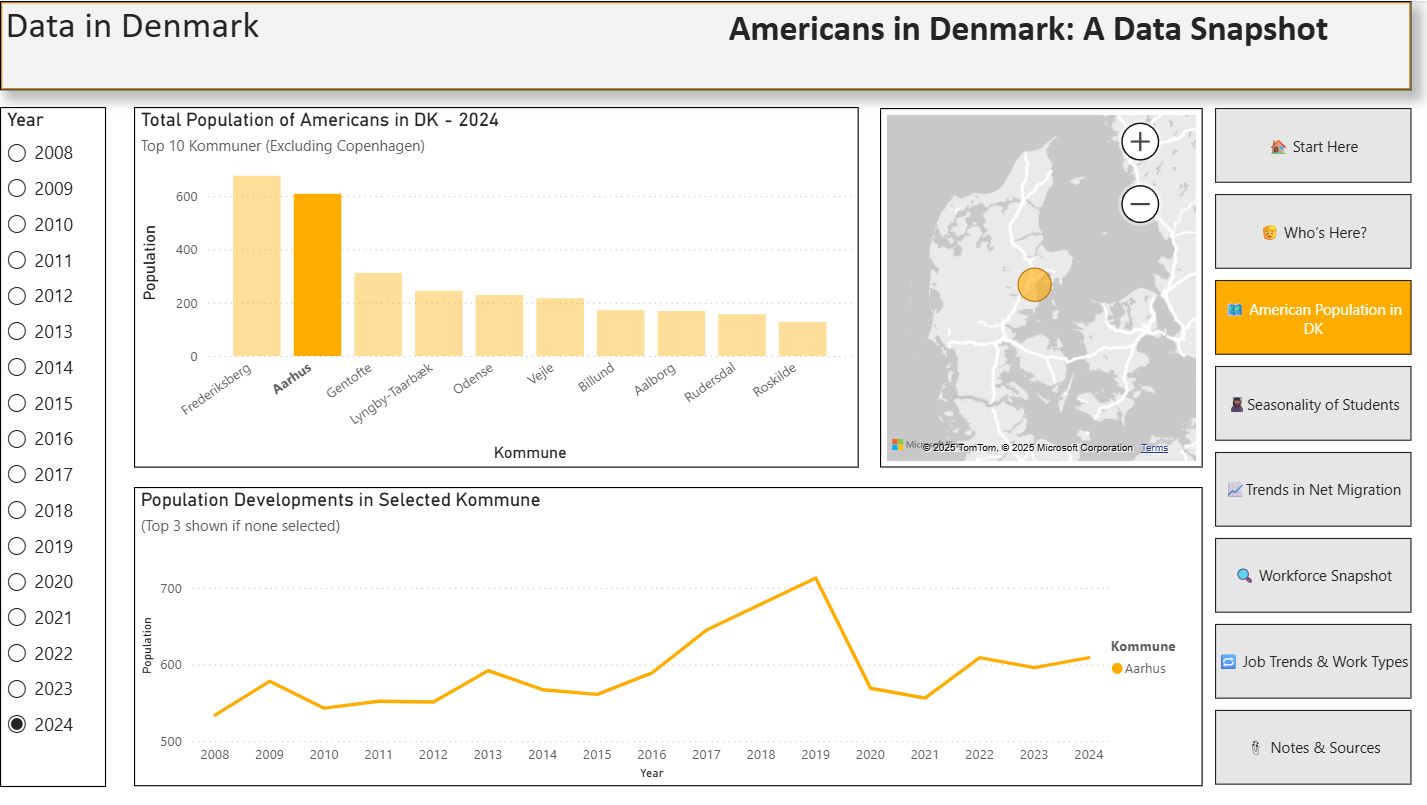

The dashboard page shown, as its layout file describes it:
{"tool":"powerbi","page":{"name":"🗺️ American Population in DK","canvas":[1280,720],"ordinal":2},"visuals":[{"type":"shape","box":[0,0,1264,80],"z":0,"group":"g1"},{"type":"map","fields":{"Category":["Dim_Kommune_Region_Danish.Kommune"],"Size":["Sum(fact_population_locations_yearly.Population)"]},"box":[787.8,95.9,289.2,321.6],"z":0},{"type":"clusteredColumnChart","fields":{"Category":["Dim_Kommune.Kommune"],"Y":["Sum(fact_population_locations_yearly.Population)"]},"box":[120.3,94.6,648.6,323],"z":1000},{"type":"group","id":"g1","title":"Group 3","box":[0,0,1264,80],"z":2000},{"type":"listSlicer","fields":{"Values":["Dim_Year.Year"]},"box":[0,95,95,608.8],"z":3000},{"type":"textbox","title":"Data in Denmark","box":[0,0,265,80],"z":4000,"group":"g2"},{"type":"lineChart","title":"Population Developments in Selected Kommune","fields":{"Category":["fact_population_locations_yearly.Year"],"Y":["Dim_AgeGroup.Total Population of Kommuner (All Years)"],"Series":["fact_population_locations_yearly.Kommune"]},"box":[120.3,435.1,956.8,267.6],"z":4000},{"type":"textbox","box":[640,0,623.8,80],"z":5000,"group":"g2"},{"type":"pageNavigator","box":[1088,96,176,608],"z":5000},{"type":"group","id":"g2","title":"Group 4","box":[0,0,1263.8,80],"z":5002,"group":"g1"}]}

Visuals, with their boxes in screenshot pixels (x1, y1, x2, y2), scaled from the page's 1280x720 canvas onto the 1427x805 screenshot:
shape: box(0, 0, 1409, 89)
map - Dim_Kommune_Region_Danish.Kommune x Sum(fact_population_locations_yearly.Population): box(878, 107, 1201, 467)
clusteredColumnChart - Dim_Kommune.Kommune x Sum(fact_population_locations_yearly.Population): box(134, 106, 857, 467)
"Group 3" group: box(0, 0, 1409, 89)
listSlicer - Dim_Year.Year: box(0, 106, 106, 787)
"Data in Denmark" textbox: box(0, 0, 295, 89)
"Population Developments in Selected Kommune" lineChart: box(134, 486, 1201, 786)
textbox: box(714, 0, 1409, 89)
pageNavigator: box(1213, 107, 1409, 787)
"Group 4" group: box(0, 0, 1409, 89)
